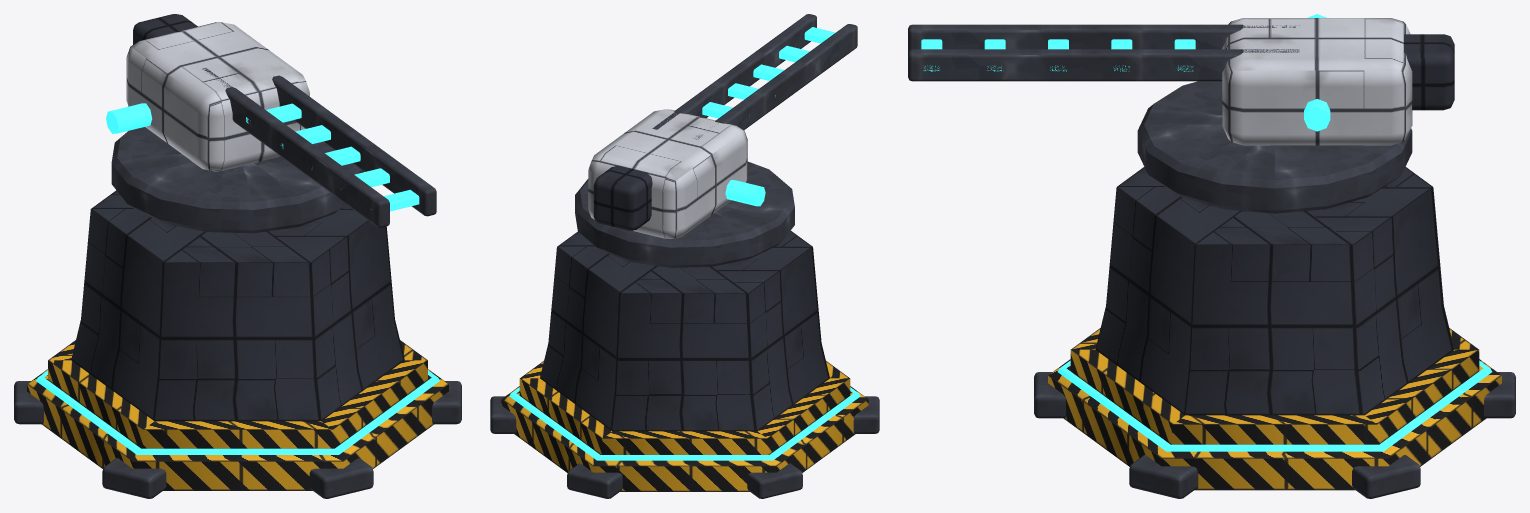
Rendered from sf_ballista.glb.
The picture shows the model from 3 angles, left to right: view 1: azimuth 30°, elevation 25°; view 2: azimuth 150°, elevation 25°; view 3: azimuth 270°, elevation 25°; orthographic projection. The views are drawn at different scales.
Parts seen in each view (by area): view 1: Base, Turret; view 2: Base, Turret; view 3: Base, Turret.
Part boxes in pixels (x1,y1,x2,y2): Base: (14,190,461,498); Turret: (106,14,436,233); Base: (490,230,879,498); Turret: (575,14,857,267); Base: (1034,167,1515,498); Turret: (908,14,1454,213).
Bounding box in the file's own units: 0.8425 × 0.77 × 1.15.
Materials: 5 (5 with a texture image).
